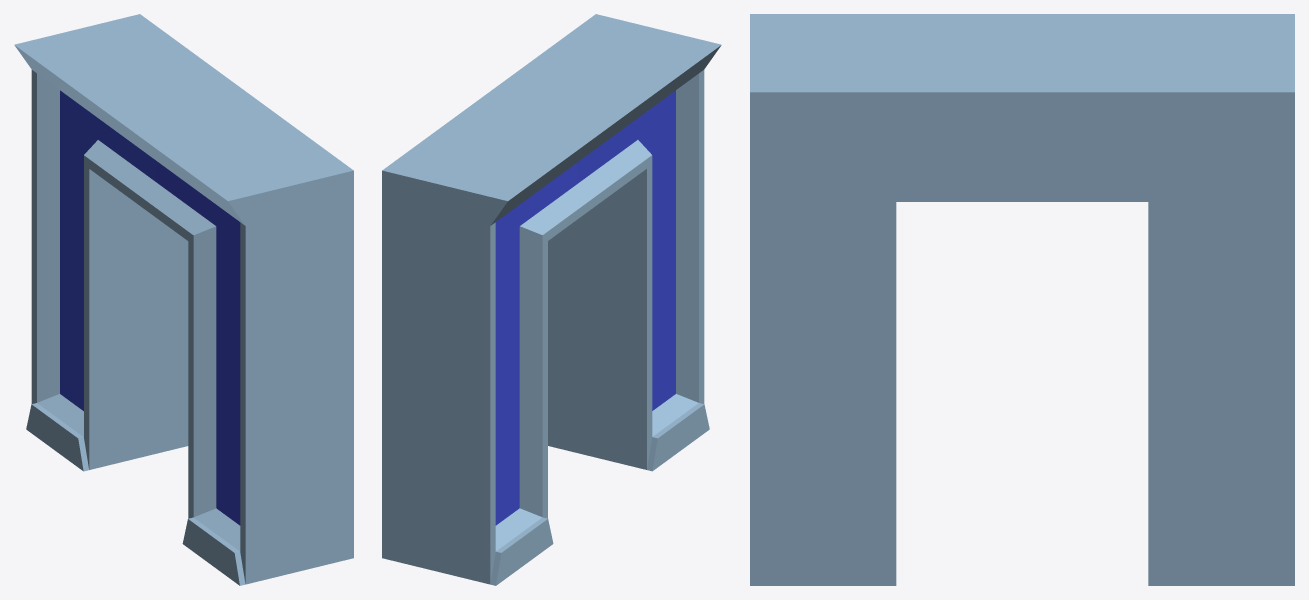
File: EspacioRedSocialPuertaExteriorNI.gltf
The picture shows the model from 3 angles, left to right: view 1: azimuth 30°, elevation 25°; view 2: azimuth 150°, elevation 25°; view 3: azimuth 270°, elevation 25°; orthographic projection. The views are drawn at different scales.
Visible parts, largest first — view 1: Cubo.25; view 2: Cubo.25; view 3: Cubo.25.
Part boxes in pixels (x1=…): Cubo.25: x1=14, y1=14, x2=353, y2=585; Cubo.25: x1=382, y1=14, x2=721, y2=585; Cubo.25: x1=750, y1=14, x2=1294, y2=585.
Size of the model in its own units: 0.68 by 2 by 2.
1 material, 1 textured.
